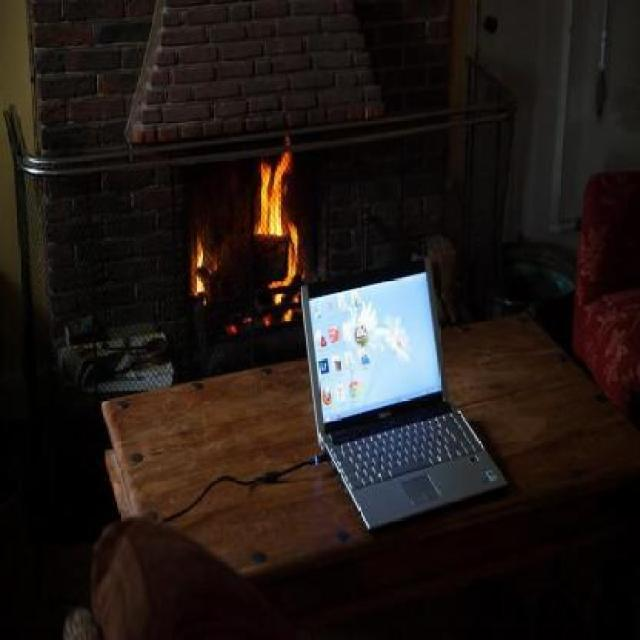Fire: (182, 138, 310, 338)
